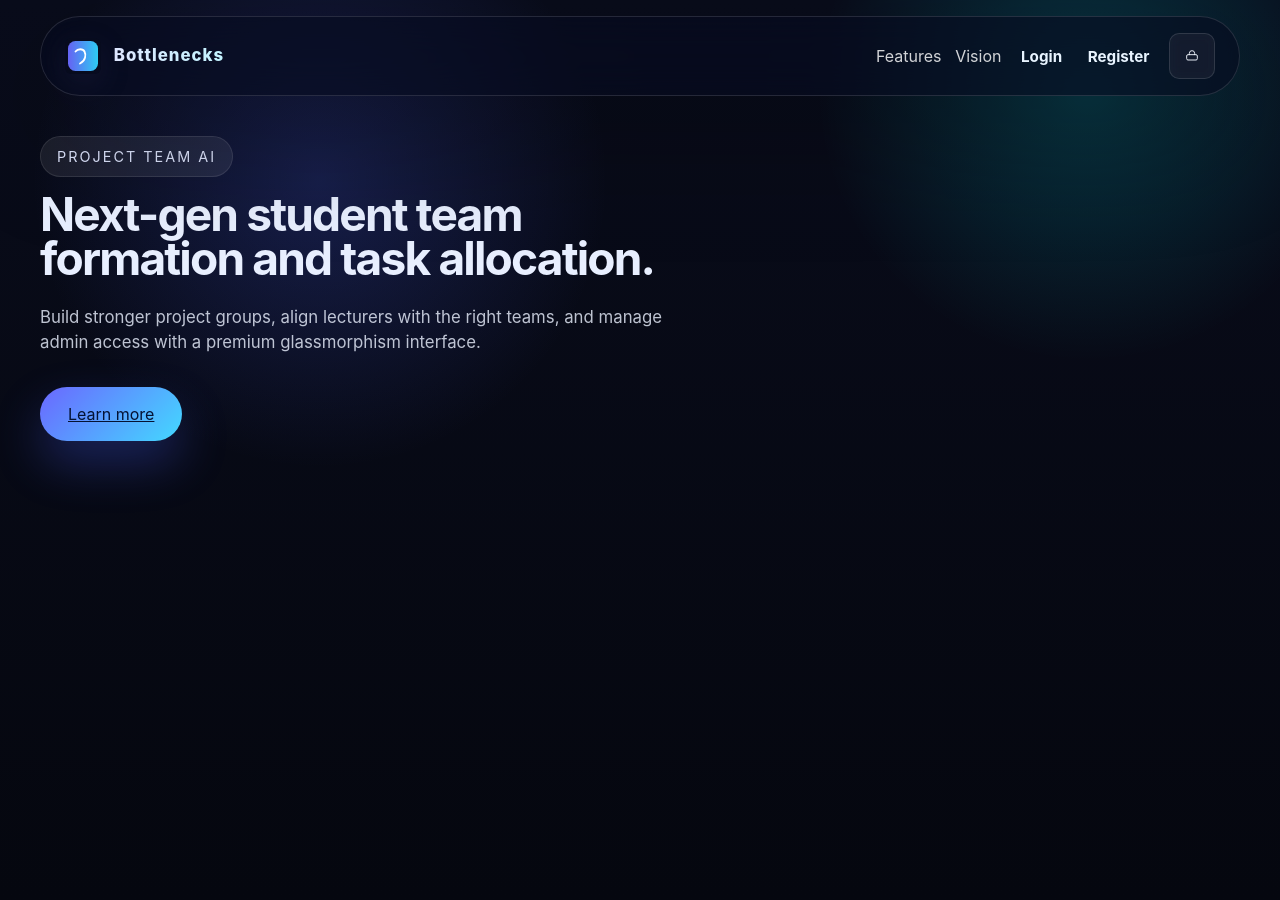
Test: App – login modal › opens login modal when Login button is clicked
Click the button labelled "Login": (1042, 56) x1=1015 y1=43 x2=1068 y2=69
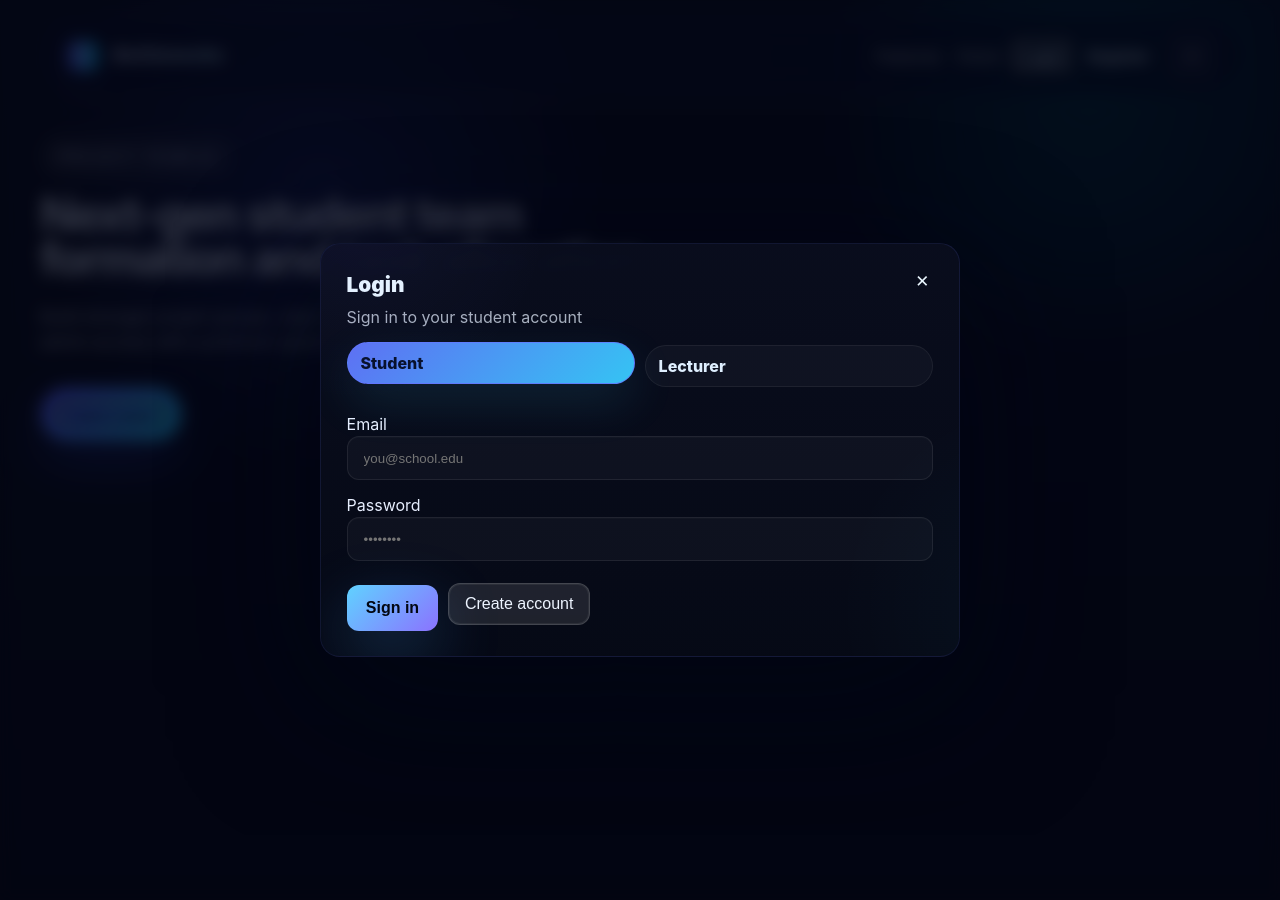
Expected: the dialog is shown, x1=320 y1=243 x2=960 y2=657
Expected: the heading "Login" is shown, x1=347 y1=272 x2=404 y2=297
